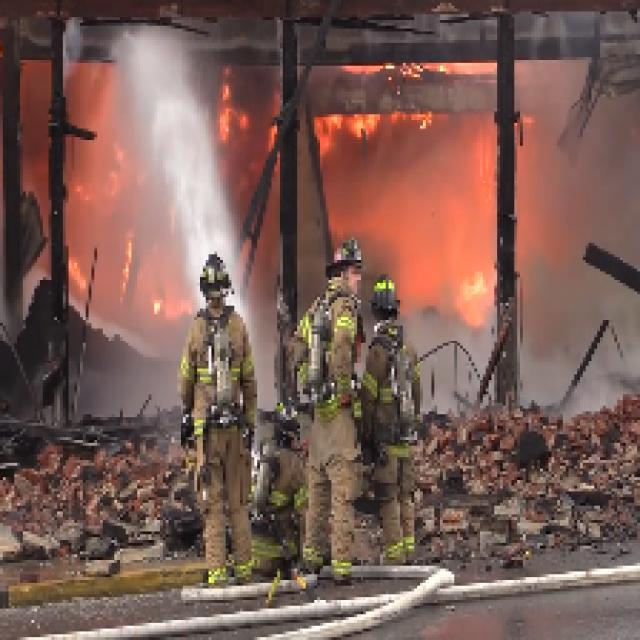Fire: (0, 55, 253, 322), (353, 110, 498, 316)
Smoke: (556, 105, 640, 418)
